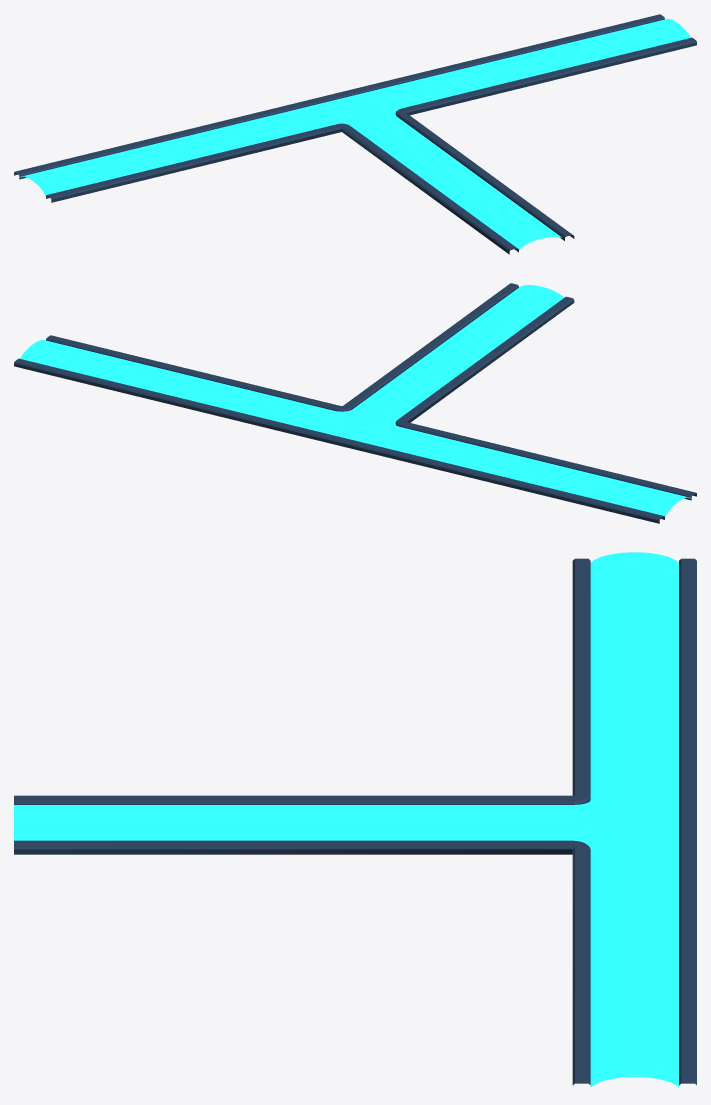
File: Light_Trim_01_RoundCrossT.glb
3 views of the same model, one above another, from view 1: azimuth 30°, elevation 25°; view 2: azimuth 150°, elevation 25°; view 3: azimuth 270°, elevation 25° (orthographic). The views are drawn at different scales.
Parts seen in each view (by area): view 1: Light_Trim_01_RoundCrossT.001; view 2: Light_Trim_01_RoundCrossT.001; view 3: Light_Trim_01_RoundCrossT.001.
Boxes of the visible parts, left/top/right/bottom form: Light_Trim_01_RoundCrossT.001: left=14, top=14, right=696, bottom=254; Light_Trim_01_RoundCrossT.001: left=14, top=283, right=696, bottom=523; Light_Trim_01_RoundCrossT.001: left=14, top=552, right=696, bottom=1087.
Bounding box in the file's own units: 1 × 0.0123 × 0.55.
